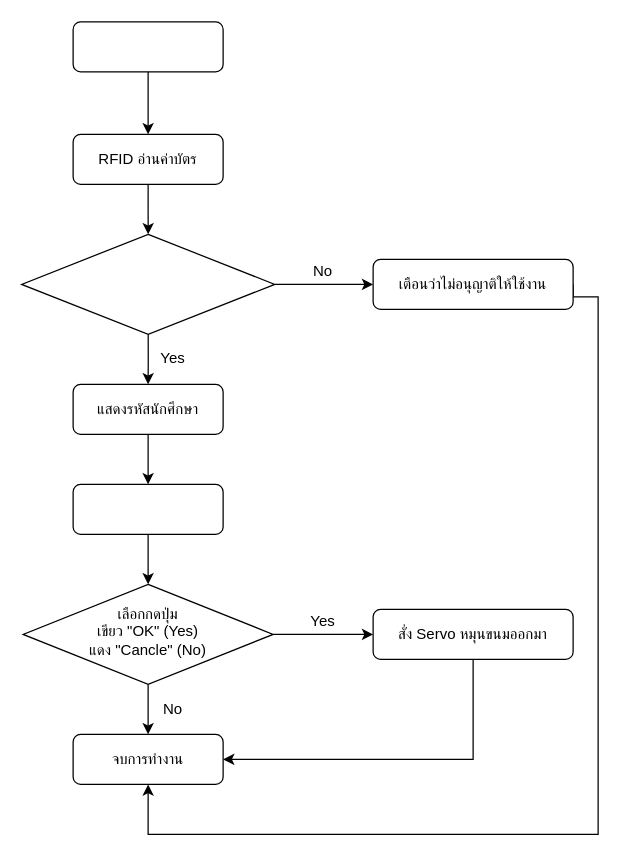
Some shapes in this 631 by 866 pixel diagram are drawn without their labels. Each missing label, with the centre of its shape:
"ถ้ามีข้อมูลรหัสนักศึกษา ใน Array" goes at point (147, 283).
"เริ่มการทำงาน" goes at point (147, 46).
"แสดงหน้าจอให้เลือกปุ่ม" goes at point (147, 508).
